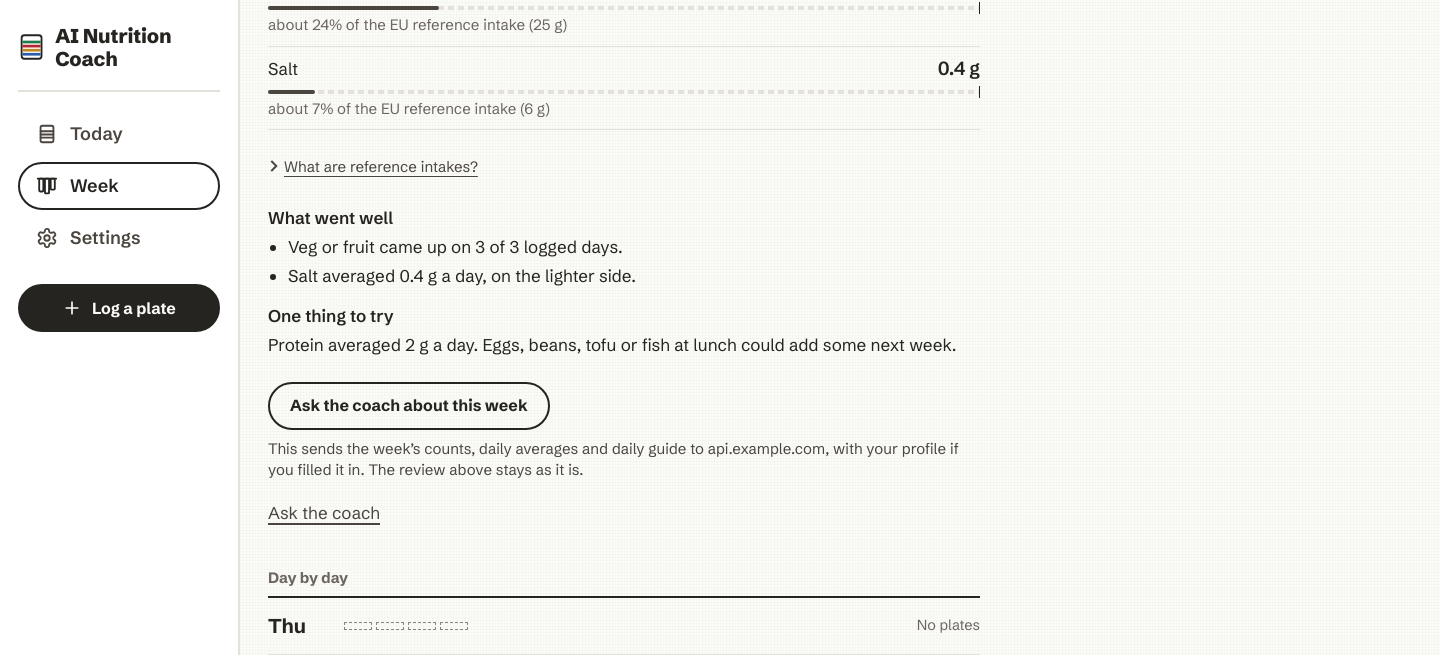
Test: WeekAiSummary › ready: nothing is sent until the tap, then a marked paragraph appears under the review
(page scrolled)
Check: the text "week’s counts, daily averages and daily guide to api.example.com" is shown, box 268,439 -> 959,480
Click the button "Ask the coach about this week": (409,406) 268,382 -> 550,430
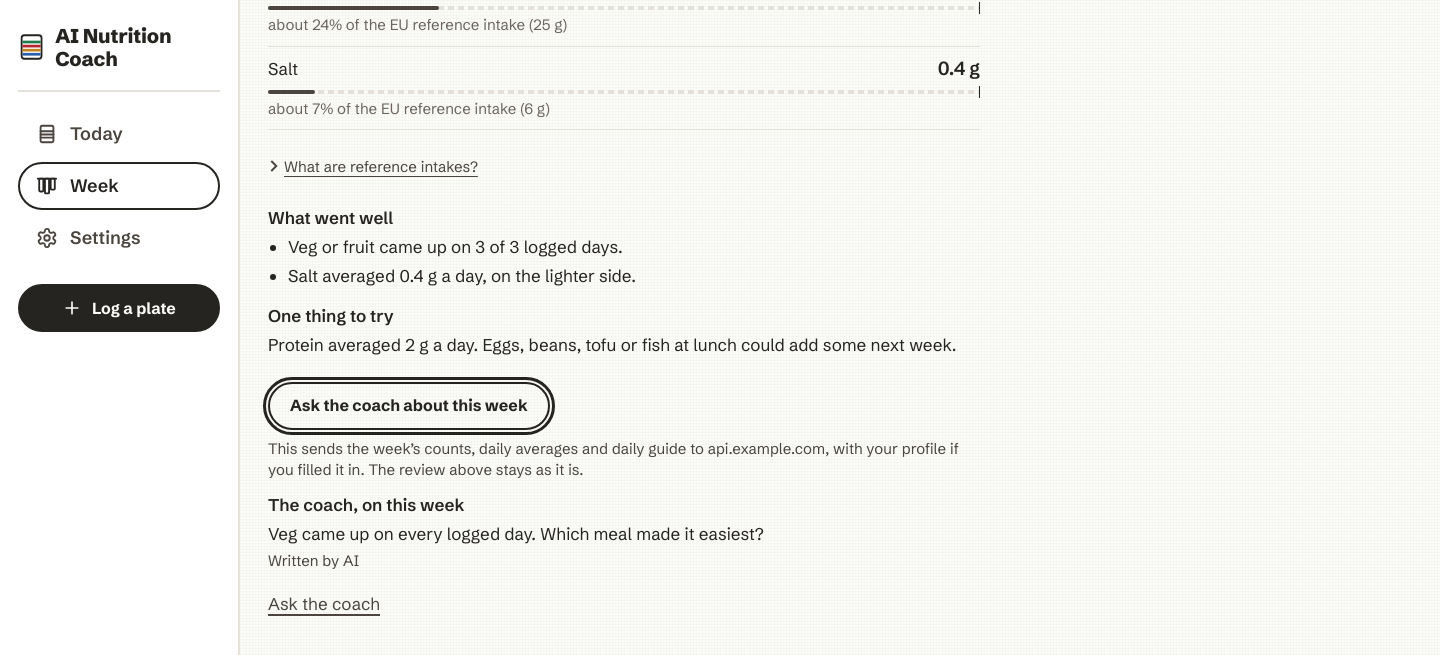
Check: the text "Veg came up on every logged day. Which meal made it easiest?" is shown, box 268,523 -> 764,544
Check: the text "Written by AI" is shown, box 268,551 -> 359,570
Check: the heading "The coach, on this week" is shown, box 268,494 -> 464,515
